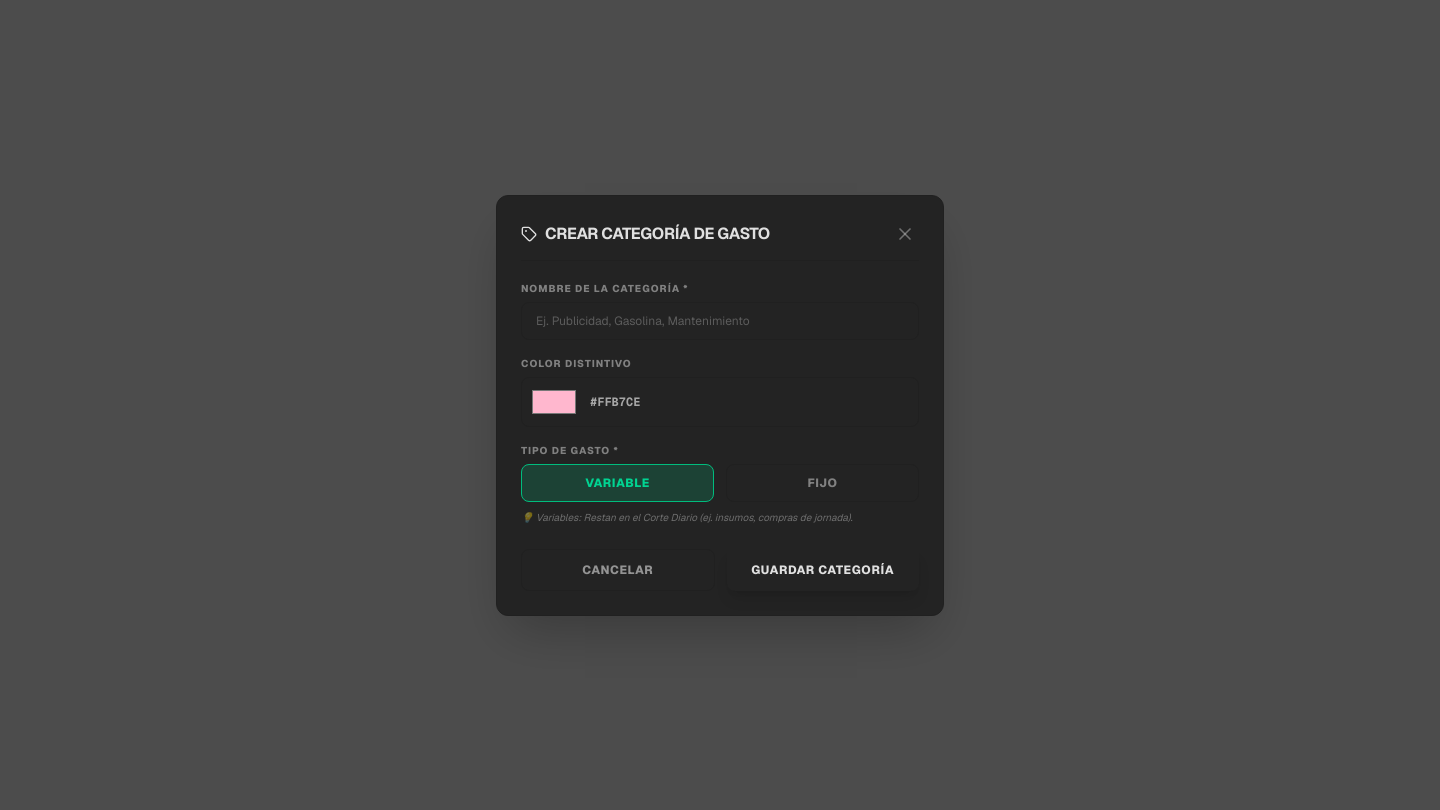
CategoryModal Component › handles non-Error rejection gracefully
This screenshot has width=1440, height=810.
In the field labelled "Nombre de la Categoría": [720, 320] box [521,302,919,340], type "Insumos"
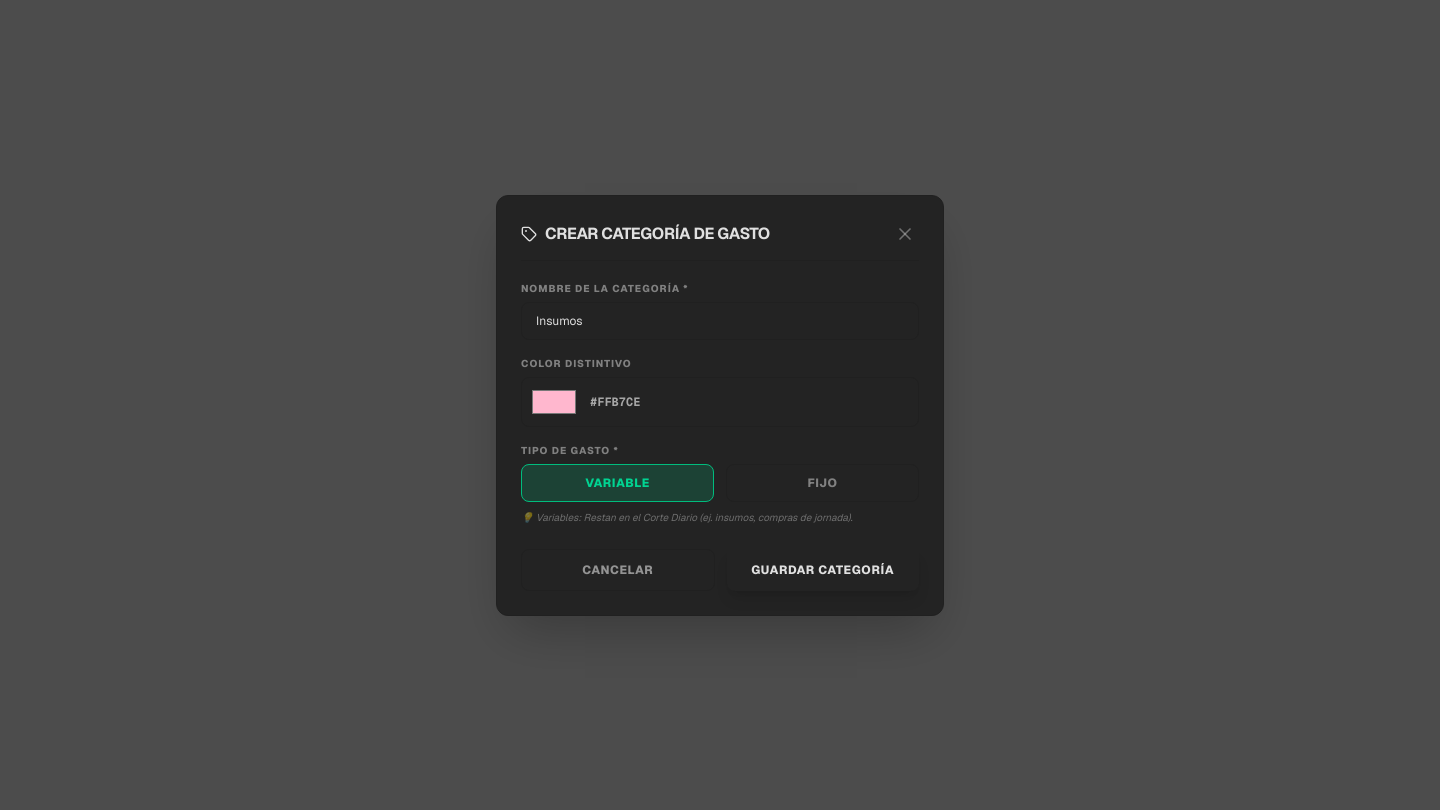
Submit the form named "Guardar Categoría", box [521,280,919,590]
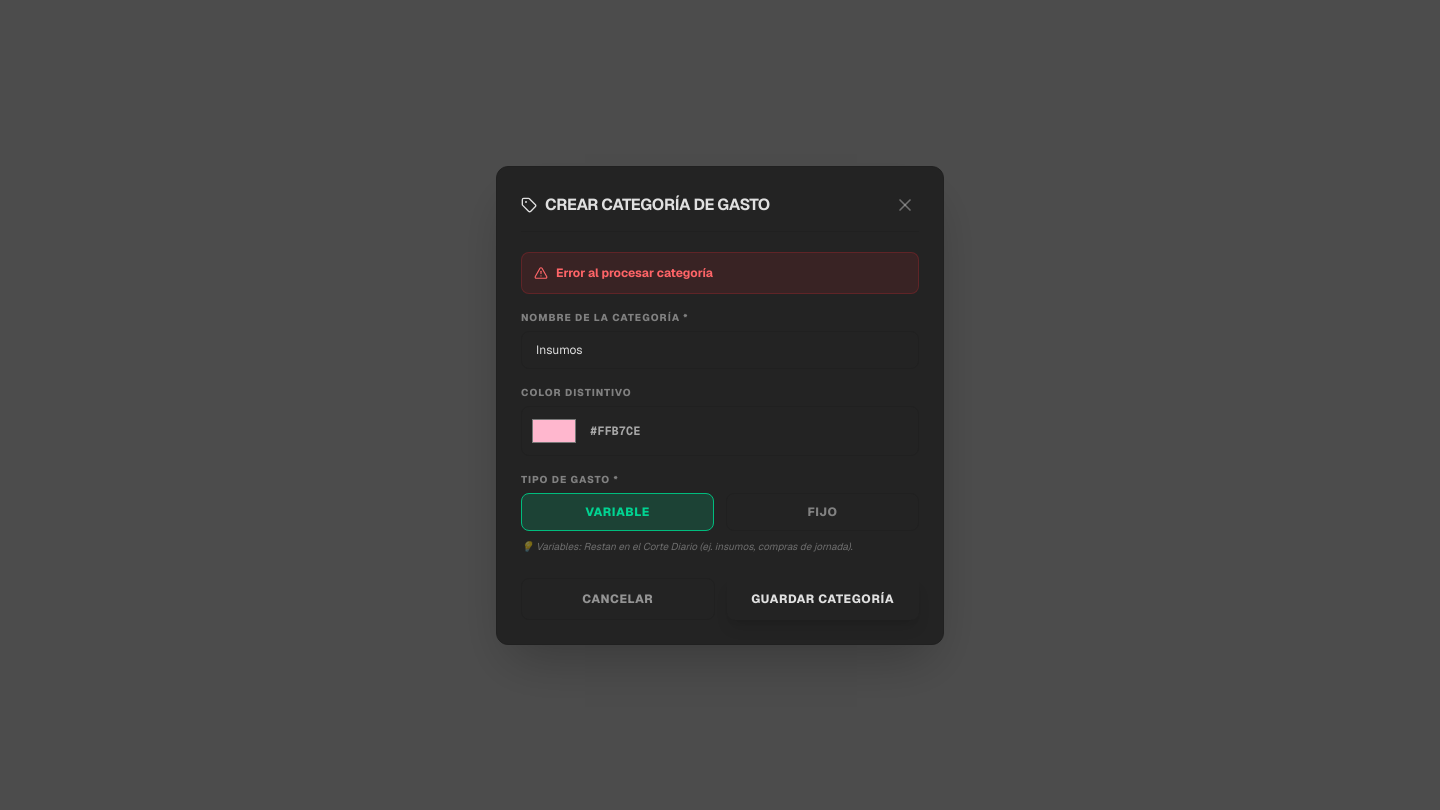
Expected: the text "Error al procesar categoría" is shown, [521,252,919,294]
